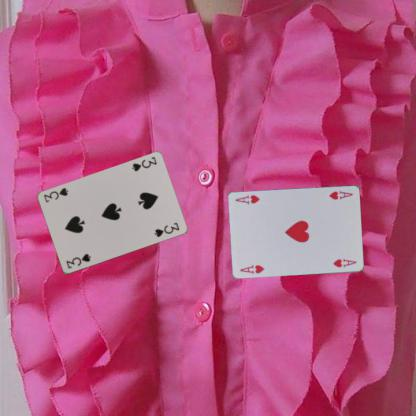3s: (63, 251, 92, 270), (129, 154, 158, 173)
Ah: (238, 262, 265, 275), (327, 188, 354, 200)
